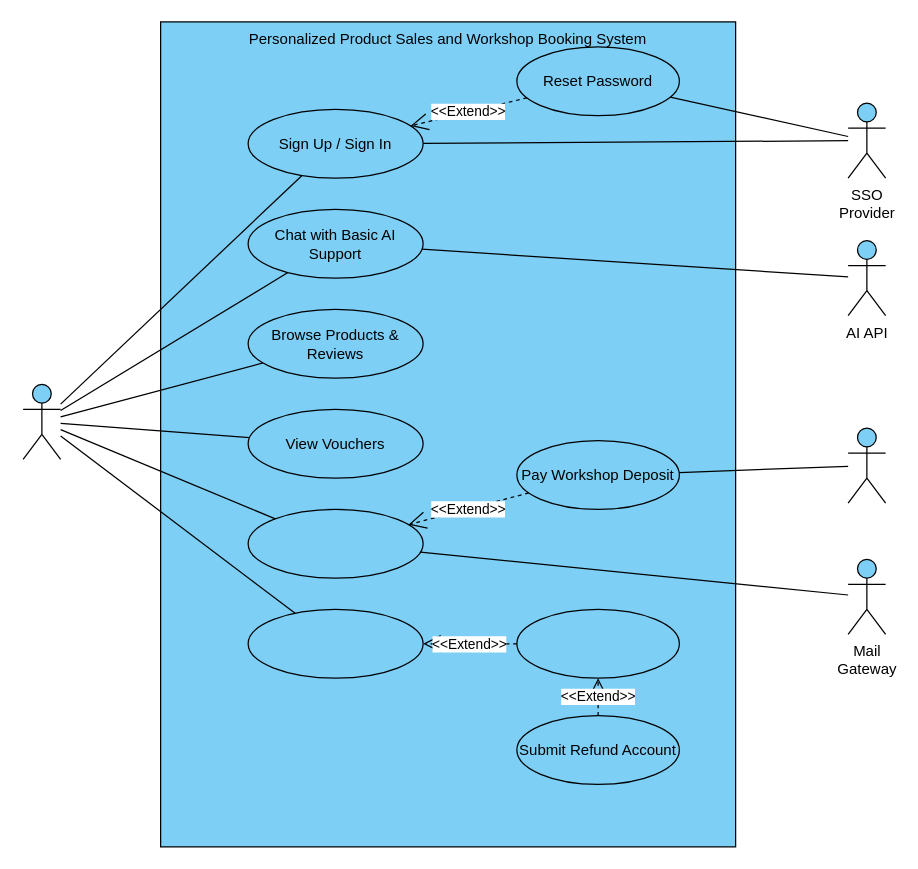
This 918x869 diagram has some shape labels left out. The box of each missing label's shape, as (x1, y1, x2, y2) in pixels:
Book Workshop: (247, 508, 423, 578)
Cancel or Change Tickets: (516, 608, 679, 678)
Guest: (22, 383, 61, 459)
Payment Gateway: (847, 427, 886, 503)
View My Booking: (247, 608, 423, 678)
